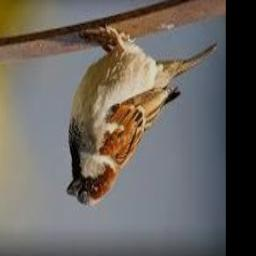Sparrow: (67, 25, 217, 206)
